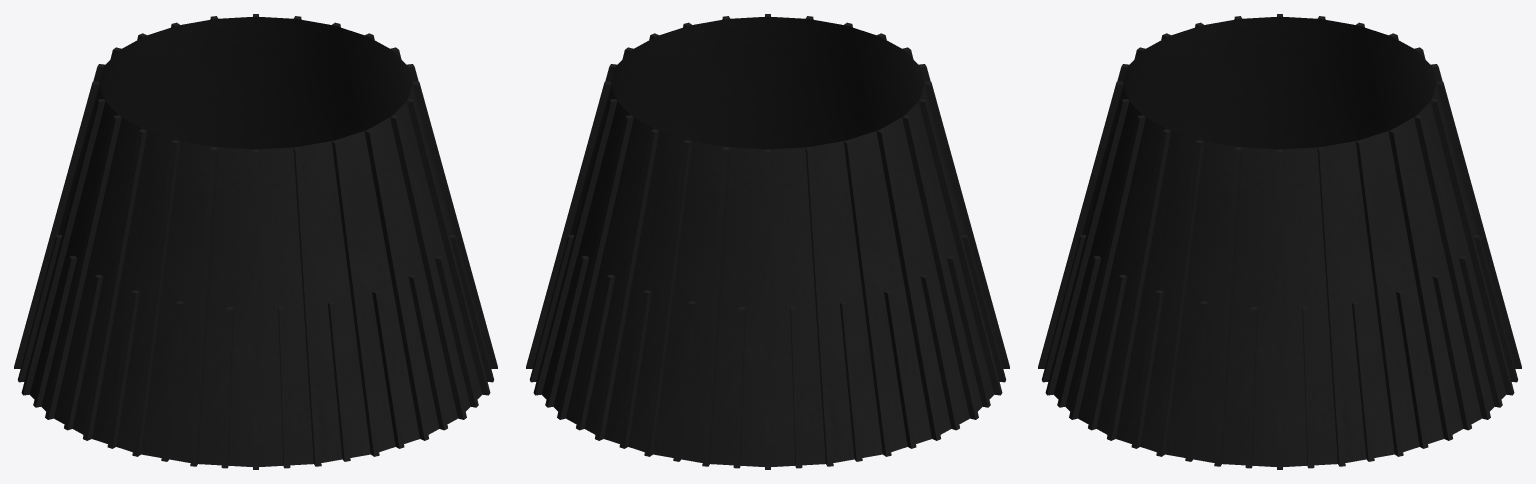
File: blue_streak_fuel_tank_s1p5_s1_1.obj
3 renders of one model, left to right at view 1: azimuth 30°, elevation 25°; view 2: azimuth 150°, elevation 25°; view 3: azimuth 270°, elevation 25°, orthographic.
Visible parts, largest first — view 1: mesh2; view 2: mesh2; view 3: mesh2.
Part boxes in pixels (x1,y1,x2,y2): mesh2: (14,14,497,469); mesh2: (526,14,1009,469); mesh2: (1038,14,1521,469).
Size of the model in its own units: 1.92 by 1.25 by 1.92.
